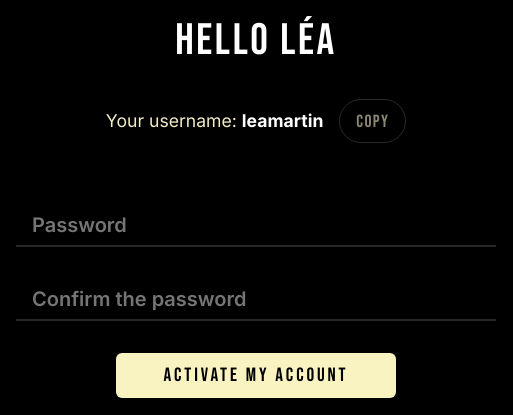
Test case: claim page › copies the username with the Clipboard API
What coordinates should you click on to do the following:
click the button with aria-label "Copy the username"
I would click on:
 (373, 121)
Its box is [339,99,406,143].
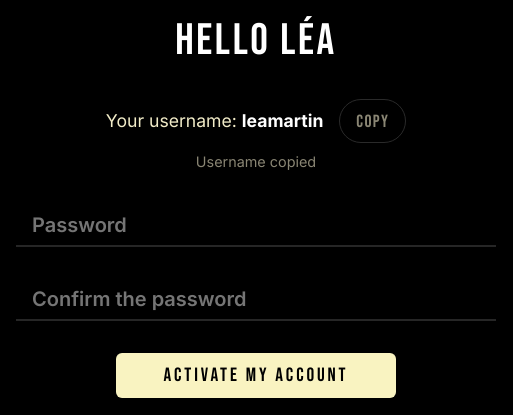
Now the message reads "Username copied", box [196,153,316,170]
